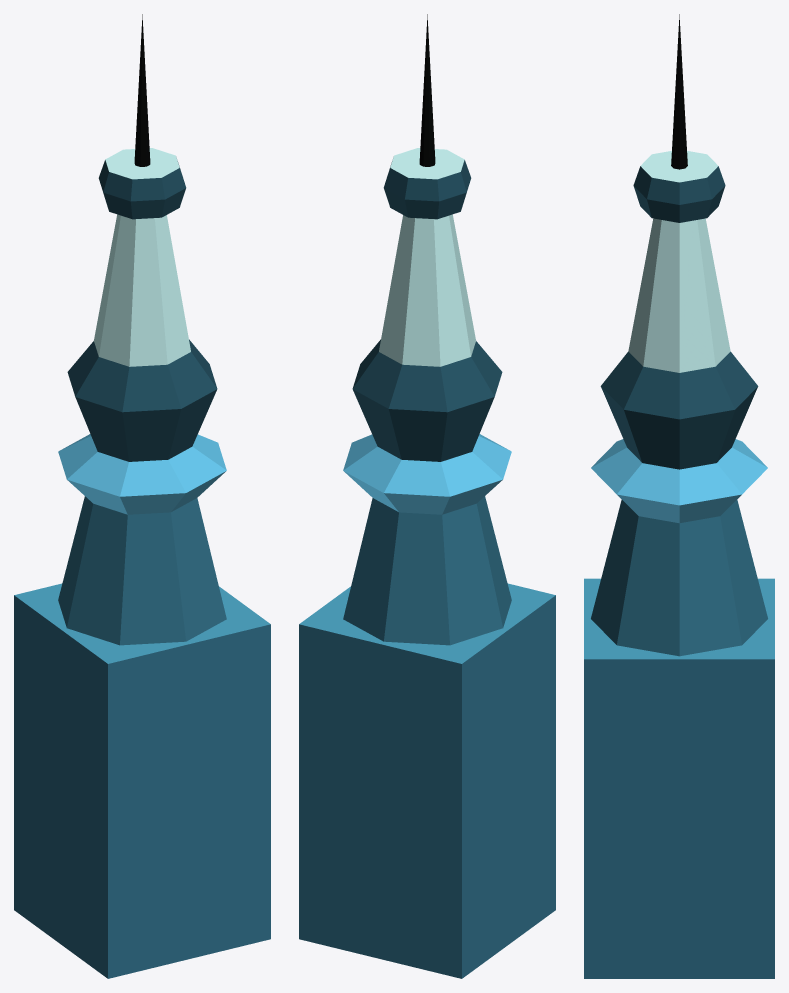
The model's file is Building2.fbx.
3 renders of one model, left to right at view 1: azimuth 30°, elevation 25°; view 2: azimuth 150°, elevation 25°; view 3: azimuth 270°, elevation 25°, orthographic.
Visible parts, largest first — view 1: Bina2; view 2: Bina2; view 3: Bina2.
Boxes of the visible parts, left/top/right/bottom form: Bina2: left=14, top=14, right=270, bottom=978; Bina2: left=299, top=14, right=555, bottom=978; Bina2: left=584, top=14, right=774, bottom=978.
Size of the model in its own units: 4498 by 24030 by 4498.
